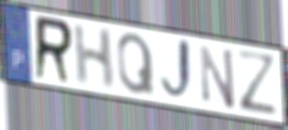H: (72, 23, 116, 91)
J: (158, 36, 195, 105)
N: (198, 43, 237, 113)
Q: (115, 31, 157, 97)
R: (32, 13, 75, 87)
Z: (235, 47, 280, 118)
